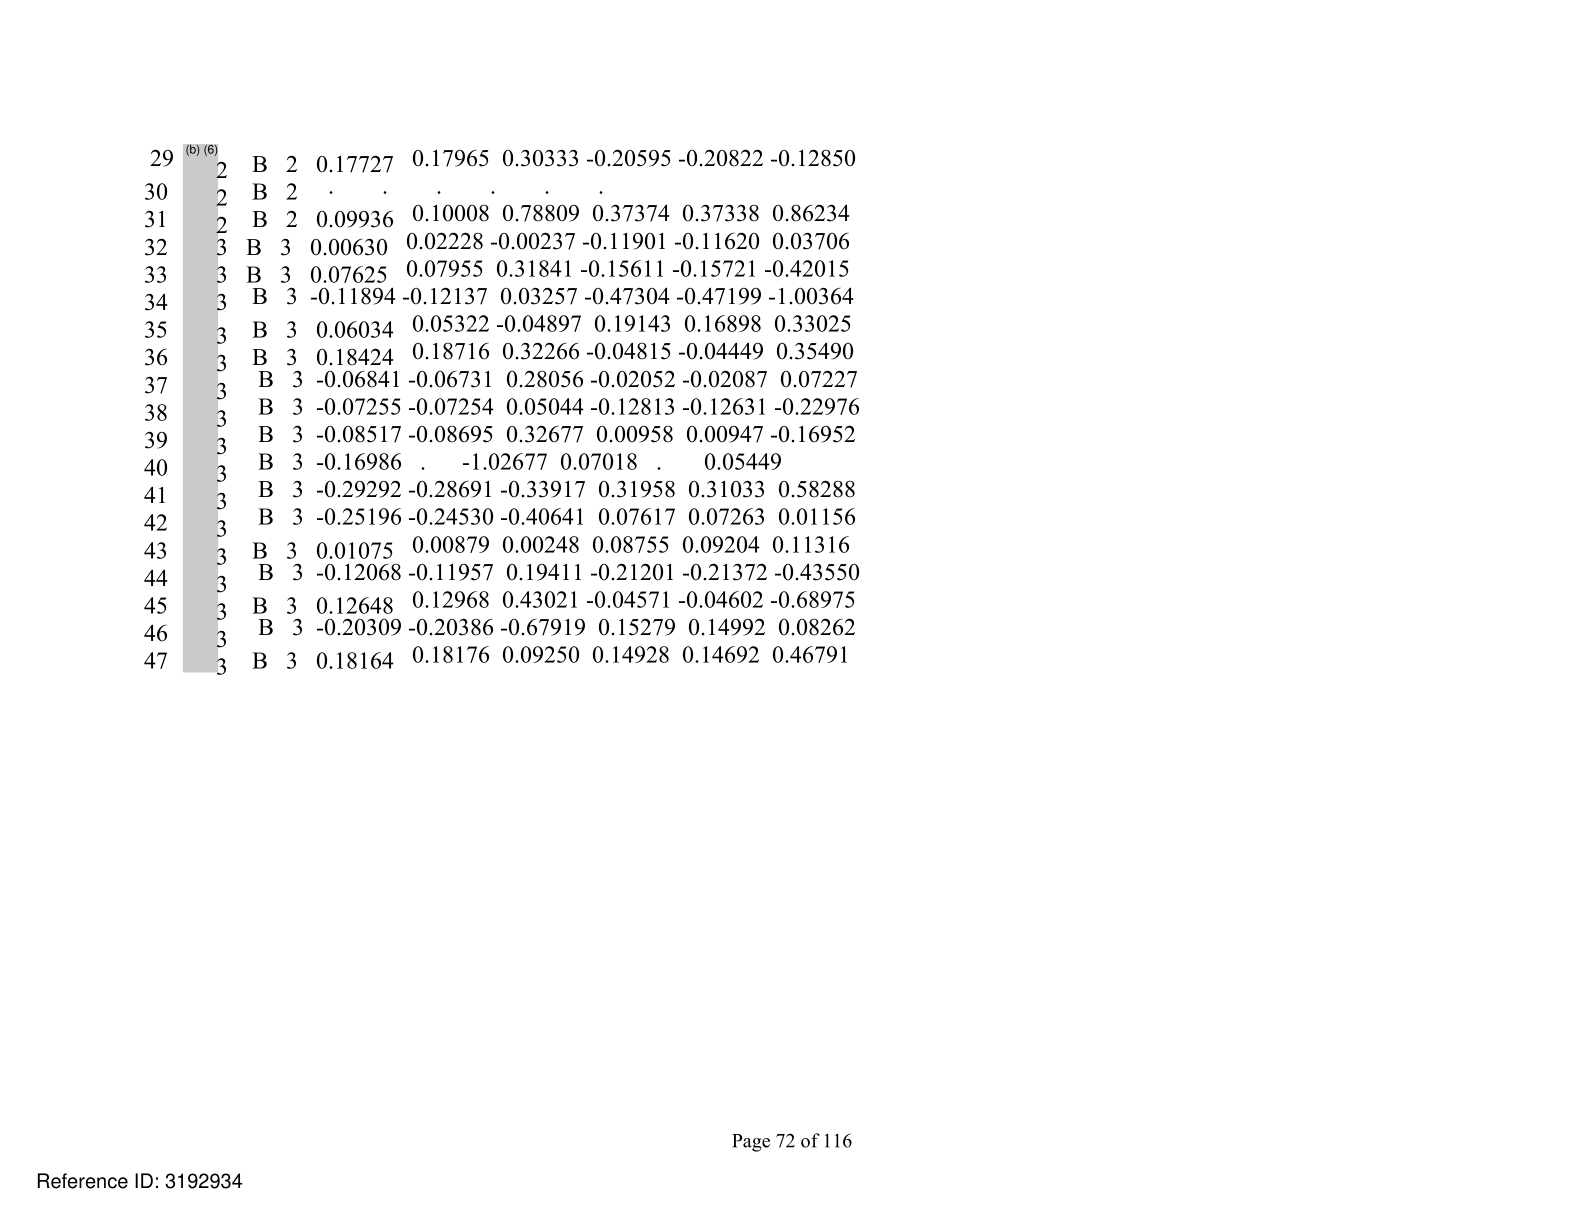nolines: (141, 141, 861, 675)
